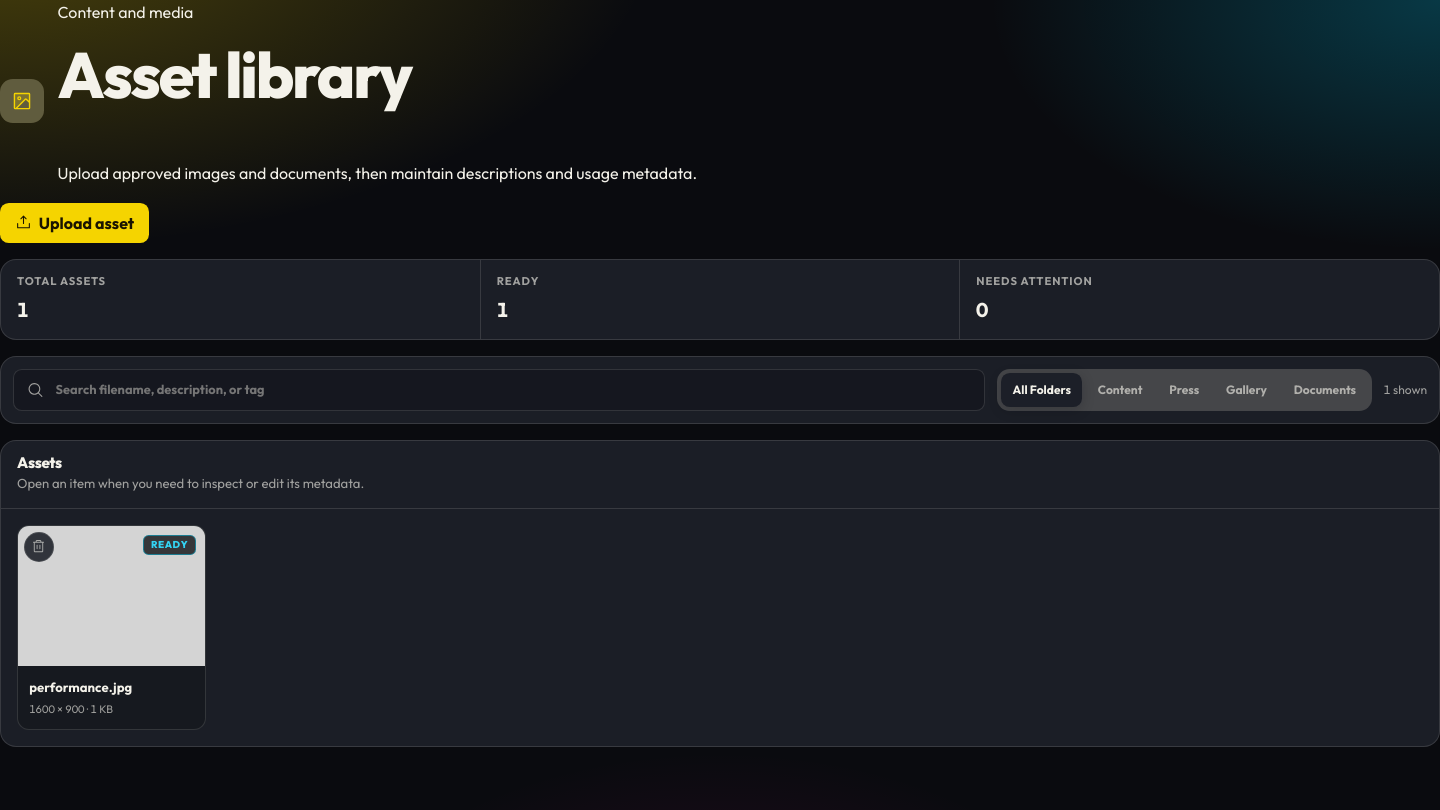
it: MediaLibrary › asks before deleting and abandons cleanly
Click the button named "Delete performance.jpg" at (39, 547), box [24,532,54,562]
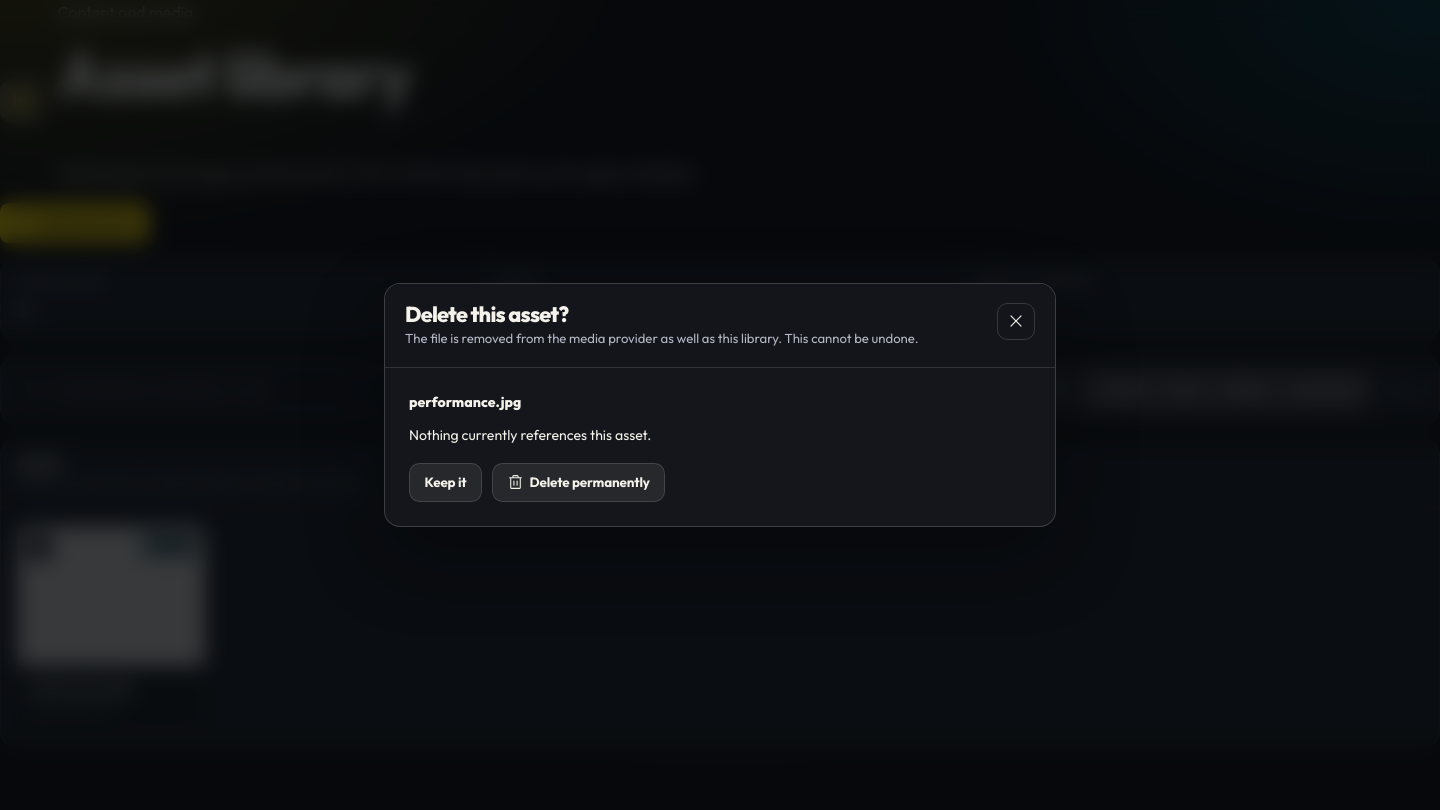
Result: the dialog "Delete this asset?" is shown at [384,283,1056,527]
Click the button "Keep it" at (445, 482), box [409,463,482,502]
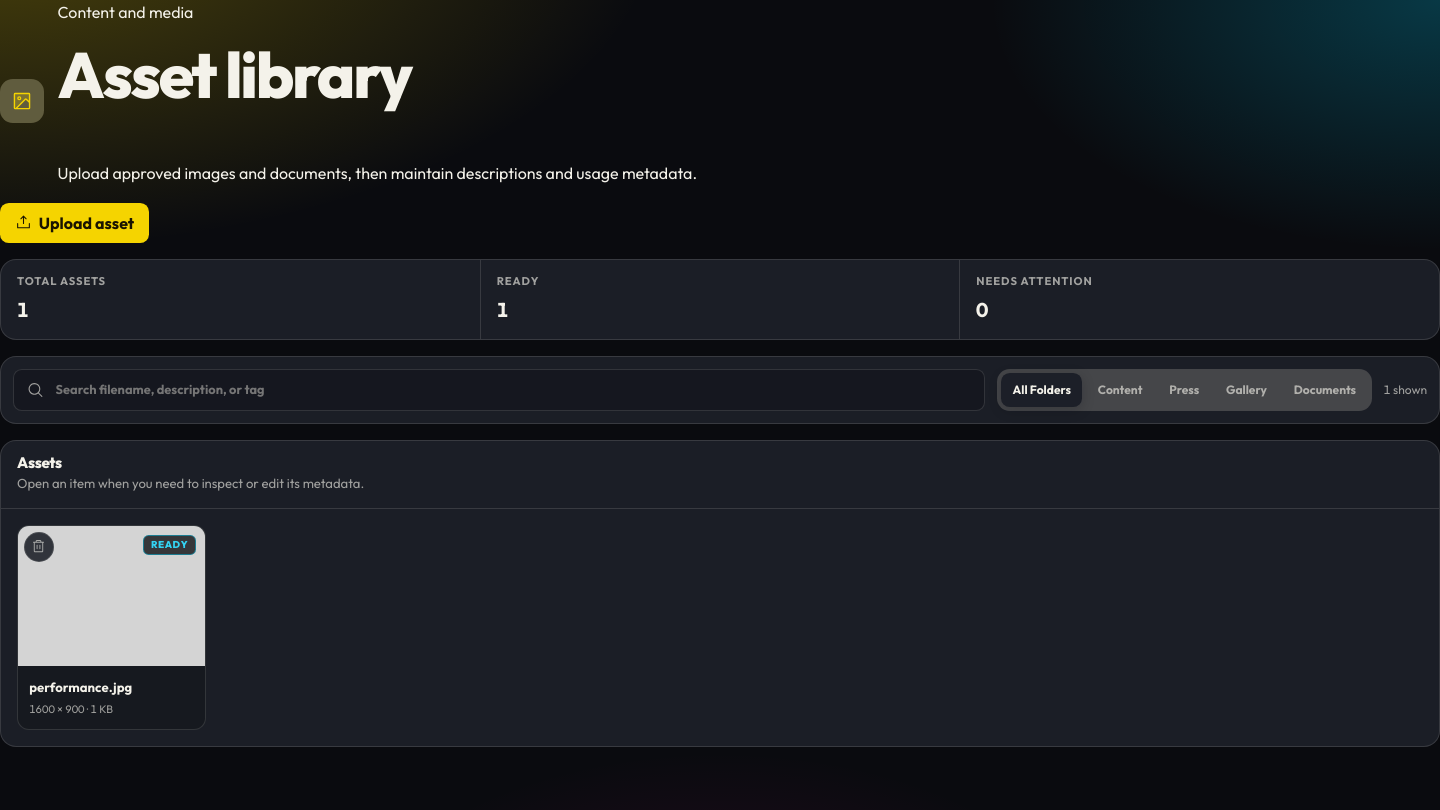
Result: the heading "Delete this asset?" is gone
